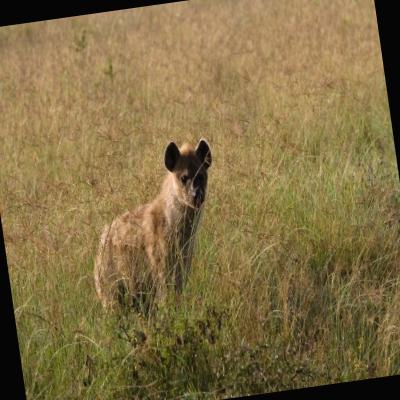hyenas: (78, 125, 266, 326)
